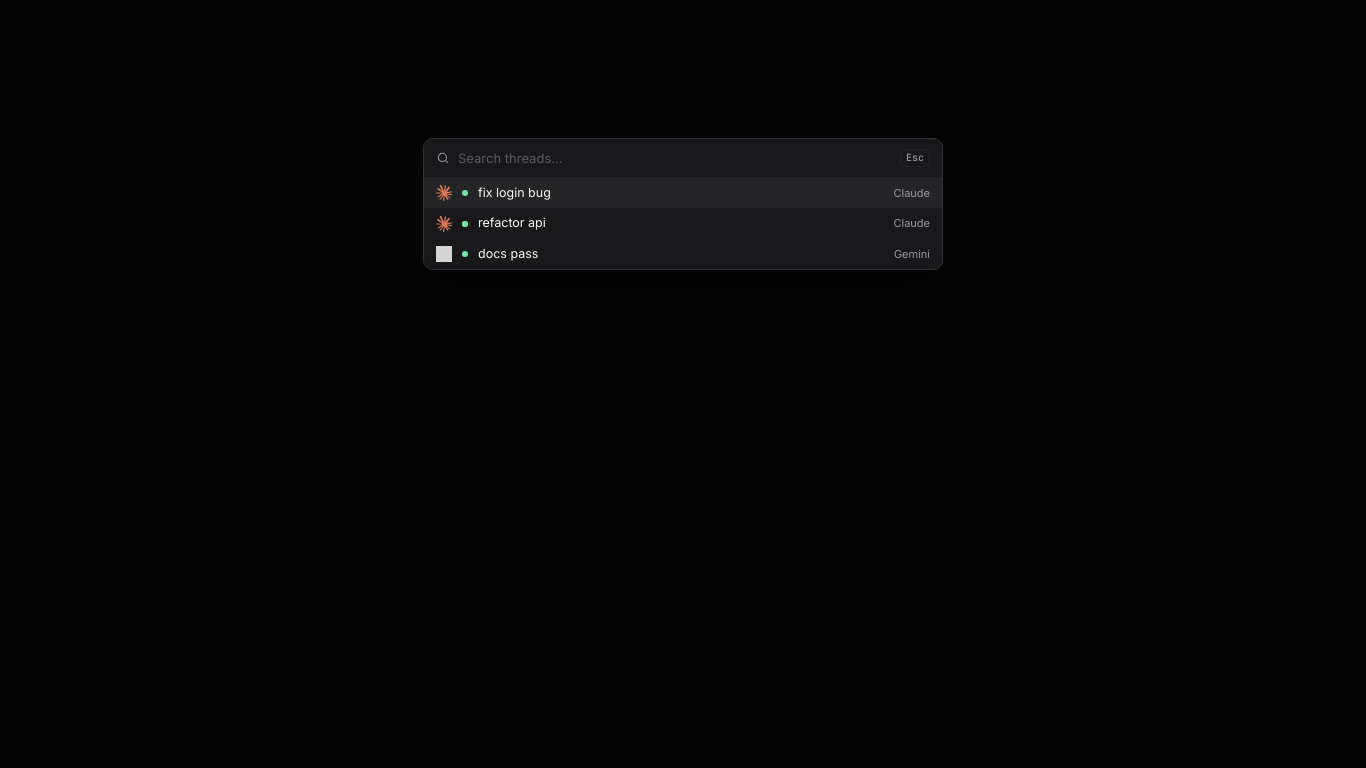
Test case: SearchCommand › shows an empty state when no thread matches
Type "zzzz" into the field with placeholder "Search threads...".
click(675, 158); type("zzzz")  # box [458,150,892,167]
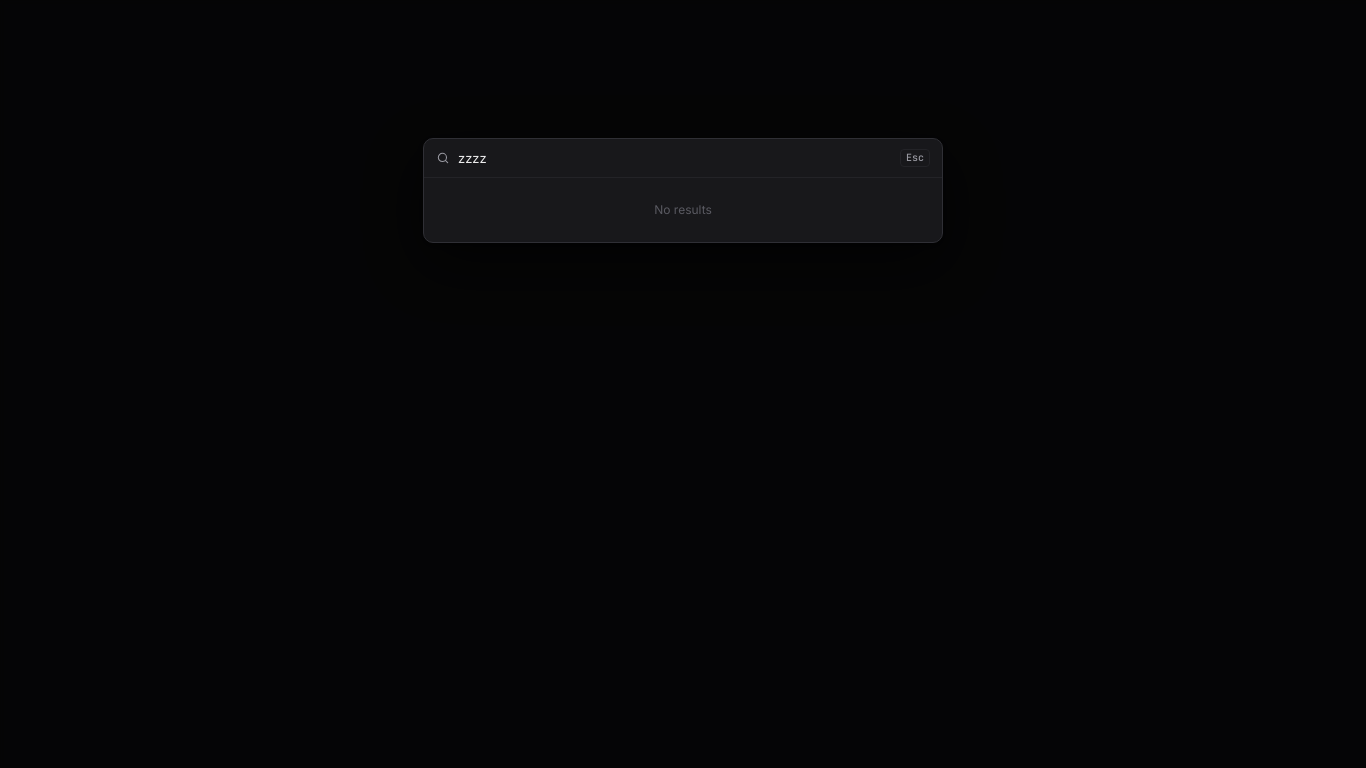
Expected: the text "No results" is shown, [654,202,712,217]
